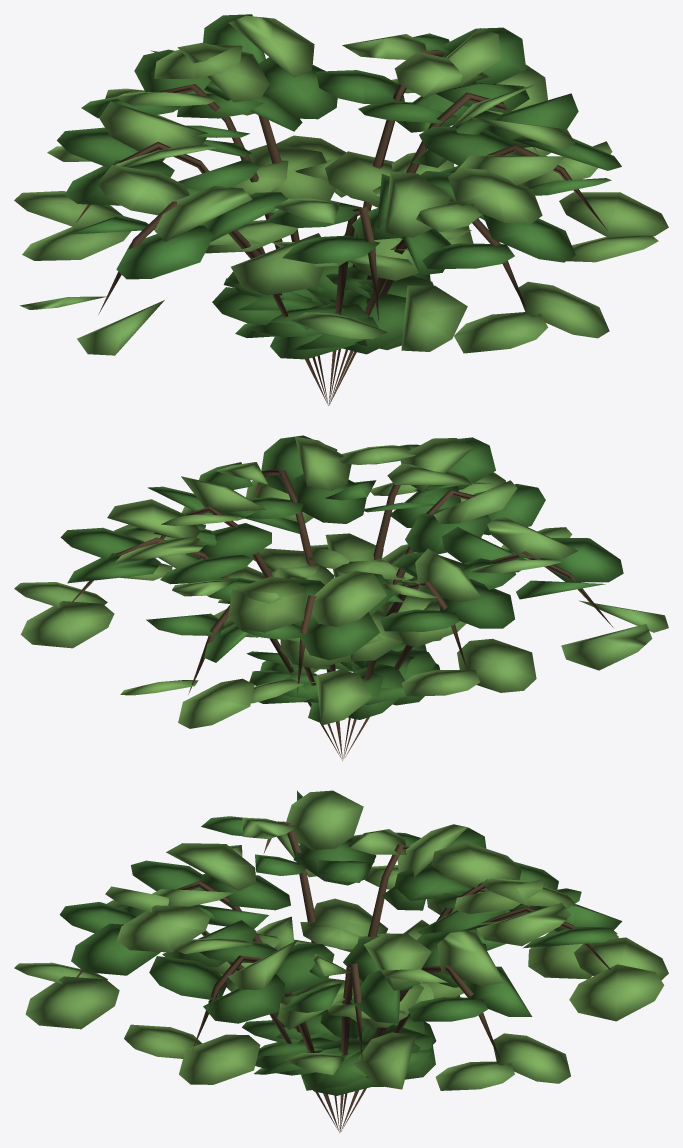
The model's file is grotto_fern_lod1.glb.
3 renders of one model, top to bottom at view 1: azimuth 30°, elevation 25°; view 2: azimuth 150°, elevation 25°; view 3: azimuth 270°, elevation 25°, orthographic. The views are drawn at different scales.
Visible parts, largest first — view 1: grotto_fern.001; view 2: grotto_fern.001; view 3: grotto_fern.001.
Part boxes in pixels (x1,y1,x2,y2): grotto_fern.001: (14,14,668,405); grotto_fern.001: (14,435,668,760); grotto_fern.001: (14,790,668,1132).
Bounding box in the file's own units: 5.39 × 2.34 × 5.65.
